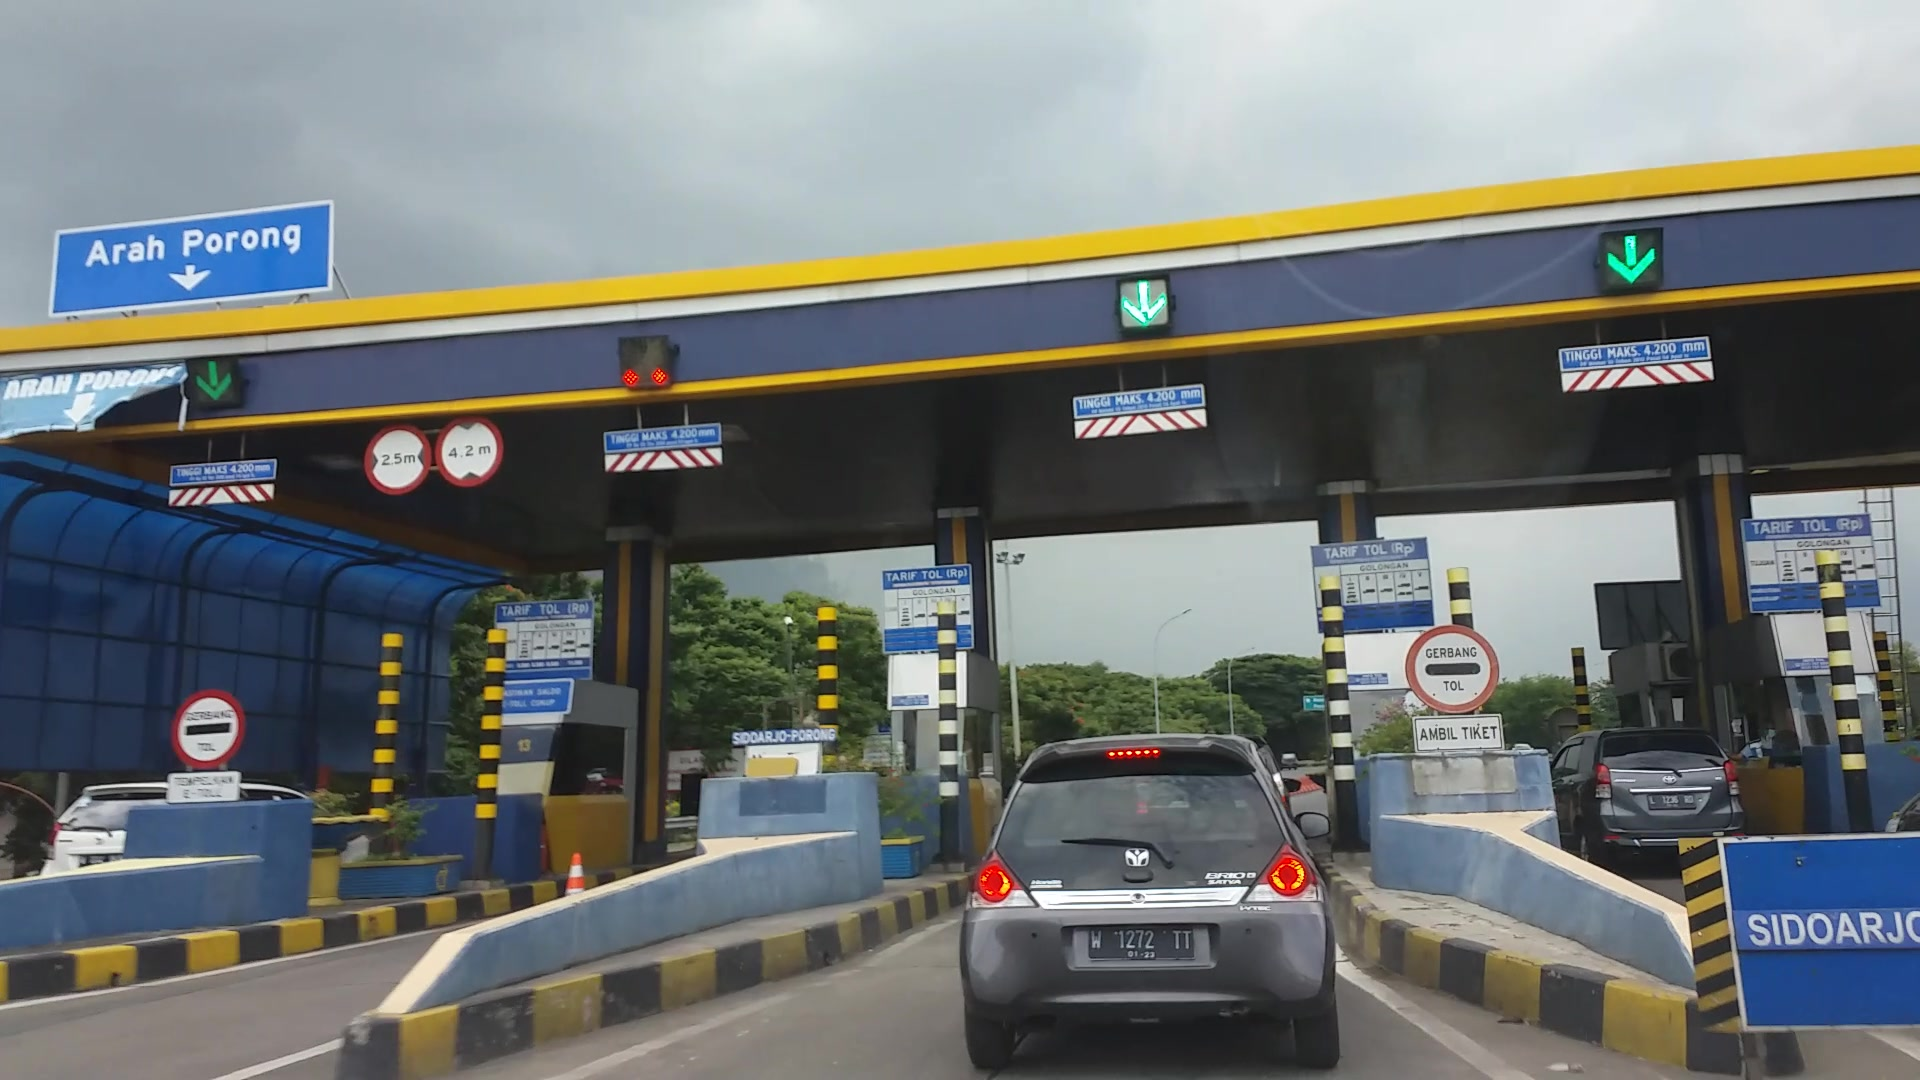plate_positive: (1087, 927, 1193, 963)
